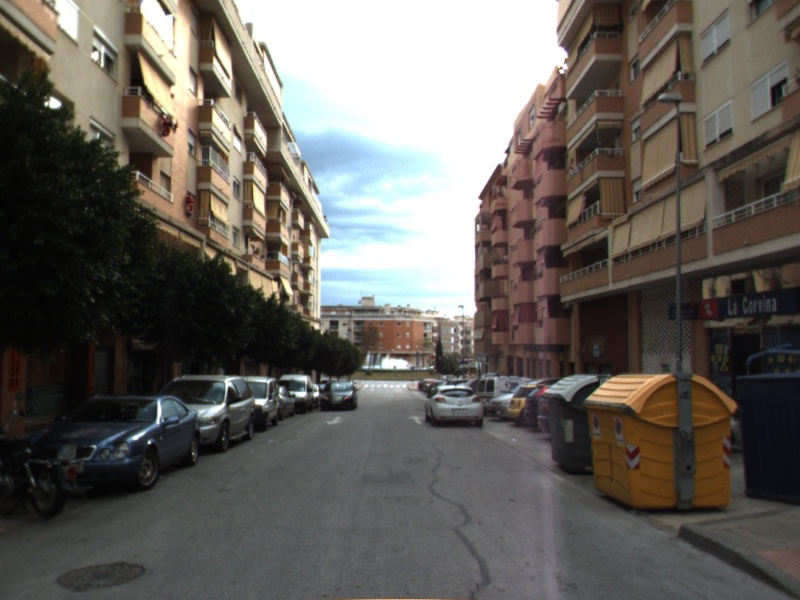STRAIGHT: (406, 413, 426, 426)
